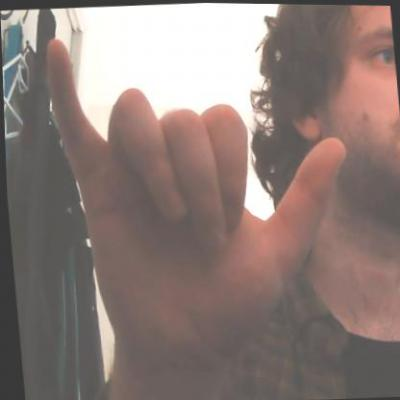hand: (42, 22, 362, 372)
